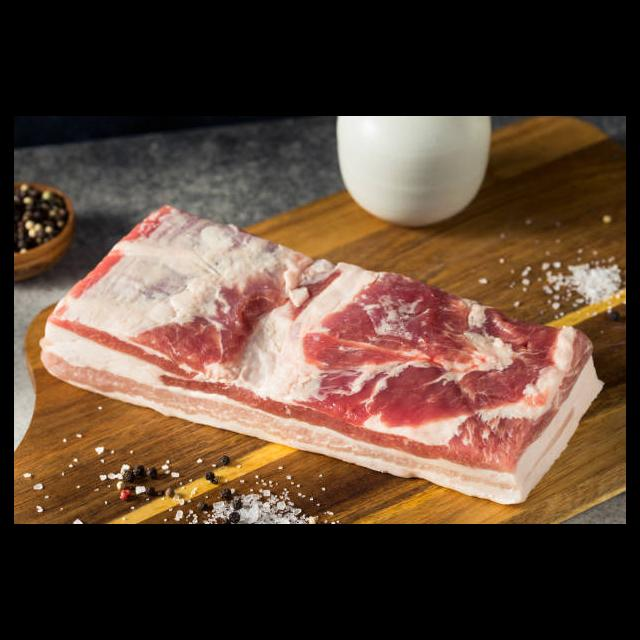pork: (276, 261, 579, 502), (48, 205, 259, 412)
